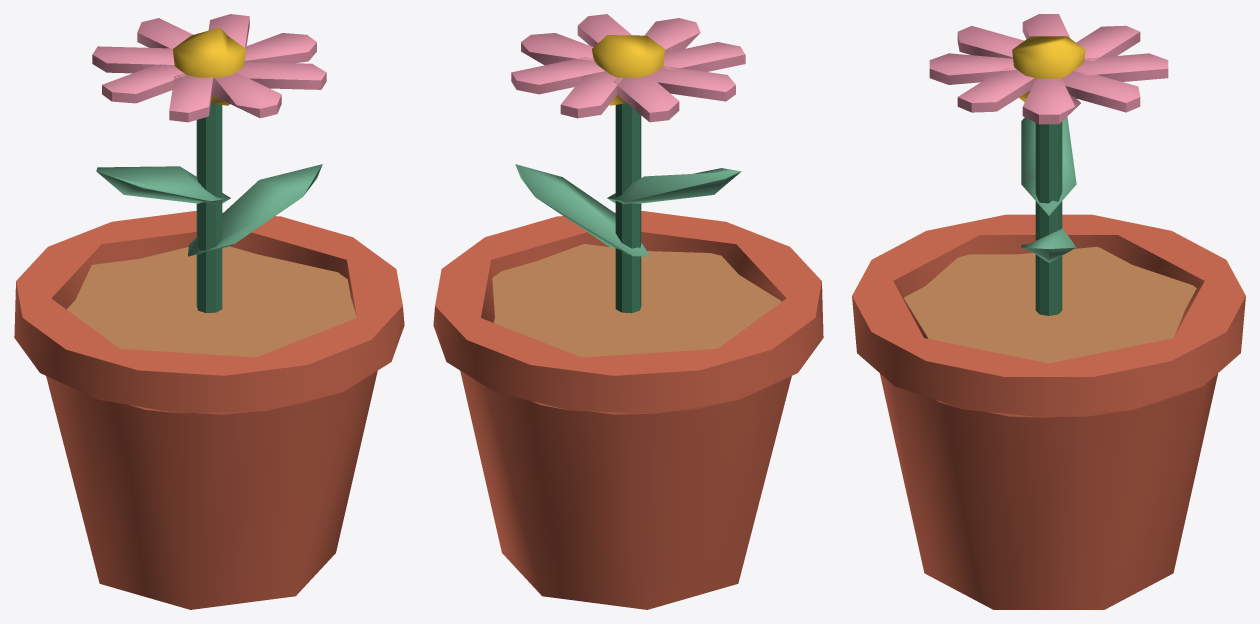
Rendered from flower_pot.glb.
3 renders of one model, left to right at view 1: azimuth 30°, elevation 25°; view 2: azimuth 150°, elevation 25°; view 3: azimuth 270°, elevation 25°, orthographic.
Parts seen in each view (by area): view 1: flower_pot; view 2: flower_pot; view 3: flower_pot.
Boxes of the visible parts, x1=… form: flower_pot: x1=14, y1=14, x2=404, y2=609; flower_pot: x1=433, y1=14, x2=823, y2=609; flower_pot: x1=852, y1=14, x2=1245, y2=609.
Bounding box in the file's own units: 0.7401 × 1.09 × 0.7401.
Materials: 1 (1 with a texture image).
